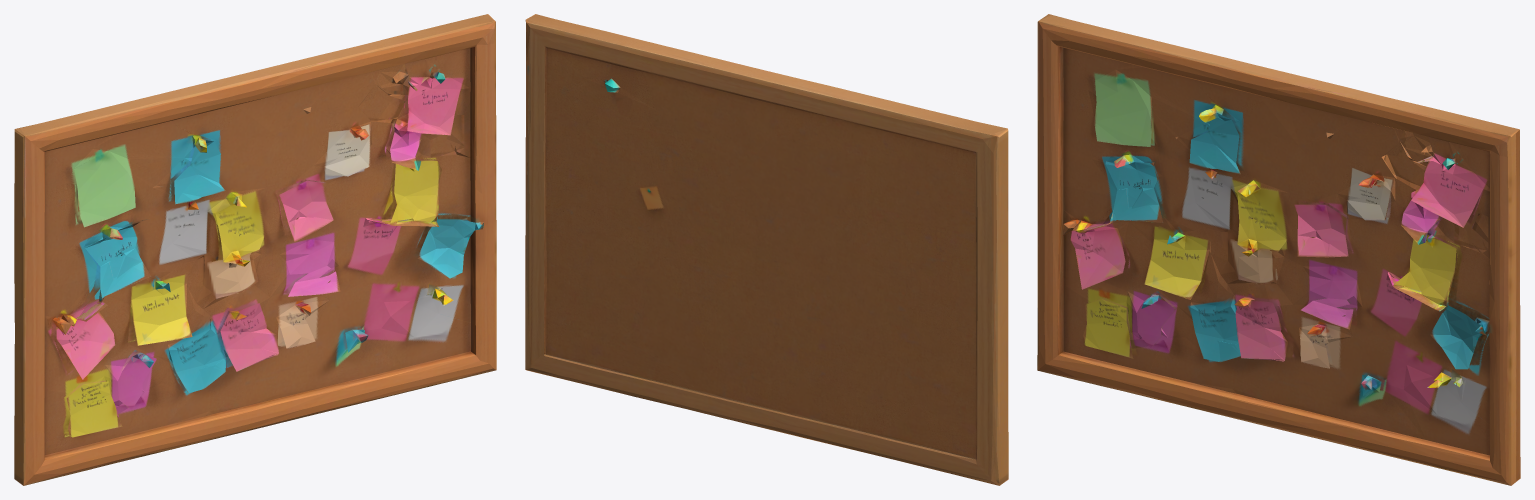
Rendered from Low_poly_cork_bulleti_0625165258_texture.fbx.
The picture shows the model from 3 angles, left to right: view 1: azimuth 30°, elevation 25°; view 2: azimuth 150°, elevation 25°; view 3: azimuth 330°, elevation 25°; orthographic projection.
Visible parts, largest first — view 1: temp; view 2: temp; view 3: temp.
Boxes of the visible parts, x1,y1,x2,y2 form: temp: [14, 14, 496, 485]; temp: [525, 14, 1008, 485]; temp: [1037, 14, 1520, 485].
Bounding box in the file's own units: 200 × 142 × 21.87.
1 material, 1 textured.
